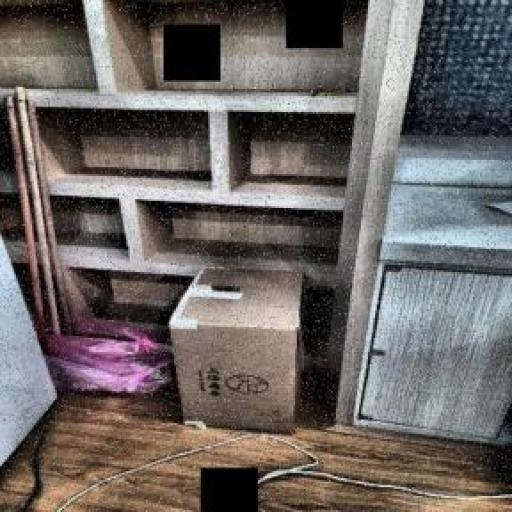box: (160, 256, 322, 443)
